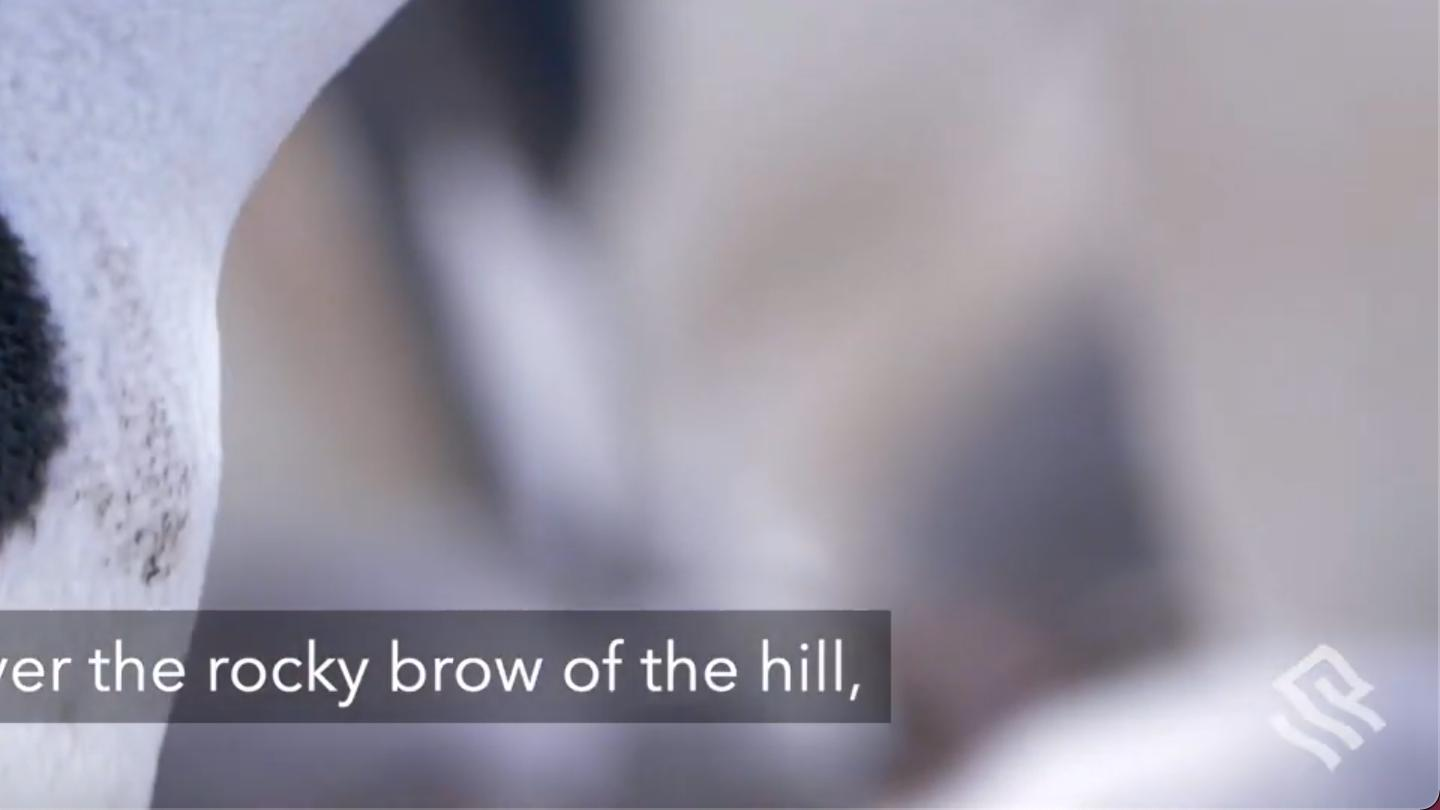Chinstrap Penguin: (0, 0, 1027, 615)
